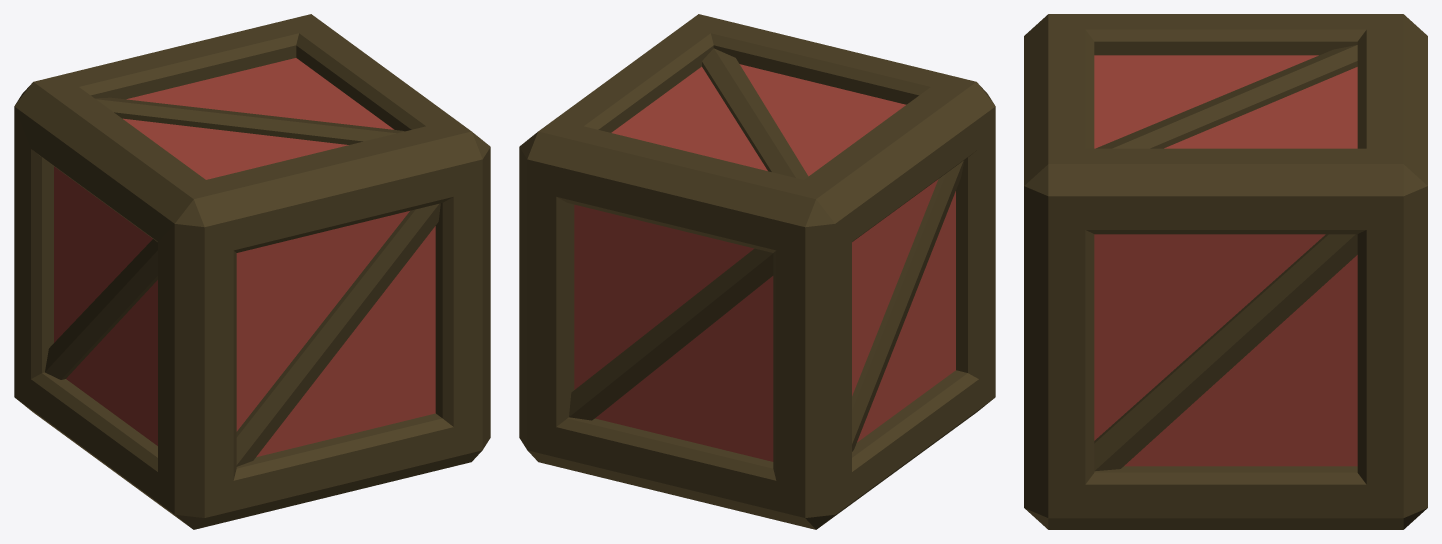
Rendered from Crate.fbx.
3 views of the same model, side by side, from view 1: azimuth 30°, elevation 25°; view 2: azimuth 150°, elevation 25°; view 3: azimuth 270°, elevation 25° (orthographic). The views are drawn at different scales.
Visible parts, largest first — view 1: Crate; view 2: Crate; view 3: Crate.
Boxes of the visible parts, left/top/right/bottom form: Crate: left=14, top=14, right=490, bottom=529; Crate: left=519, top=14, right=995, bottom=529; Crate: left=1024, top=14, right=1427, bottom=529.
Bounding box in the file's own units: 40.08 × 40.07 × 40.07.
